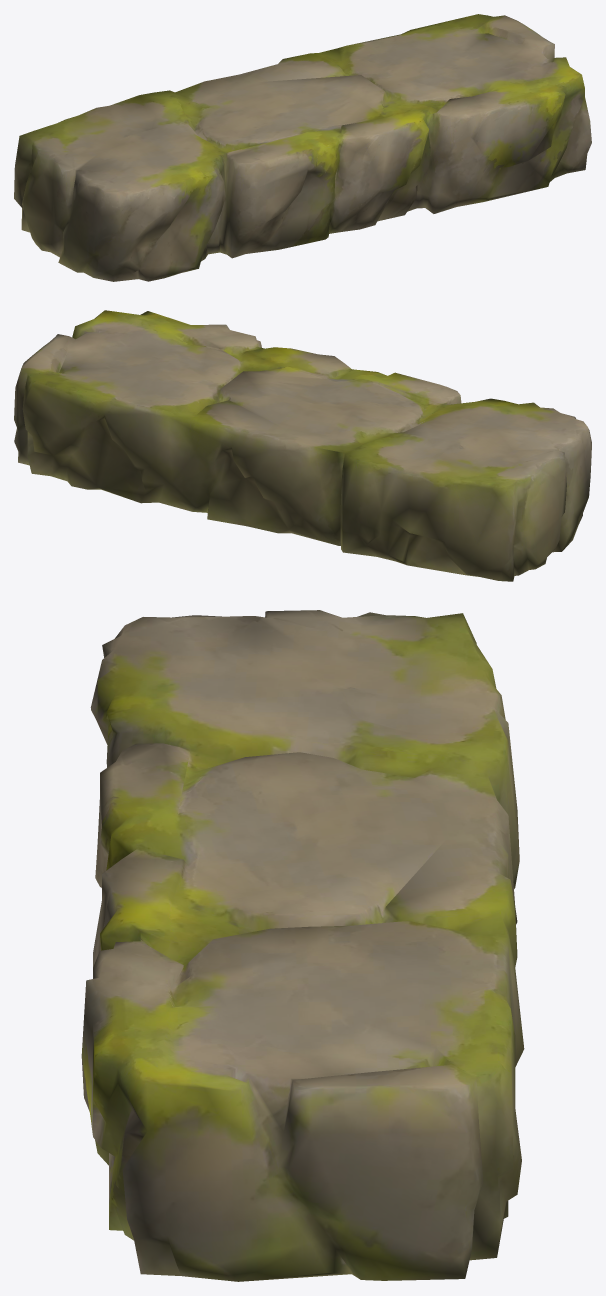
File: SM_FR_StoneLedge.fbx
3 renders of one model, top to bottom at view 1: azimuth 30°, elevation 25°; view 2: azimuth 150°, elevation 25°; view 3: azimuth 270°, elevation 25°, orthographic. The views are drawn at different scales.
Visible parts, largest first — view 1: SM_FR_StoneLedge; view 2: SM_FR_StoneLedge; view 3: SM_FR_StoneLedge.
Boxes of the visible parts, x1,y1,x2,y2 form: SM_FR_StoneLedge: [14, 14, 591, 281]; SM_FR_StoneLedge: [14, 310, 591, 581]; SM_FR_StoneLedge: [81, 610, 524, 1281].
Size of the model in its own units: 4.5 by 0.8366 by 1.72.
1 material, 1 textured.
